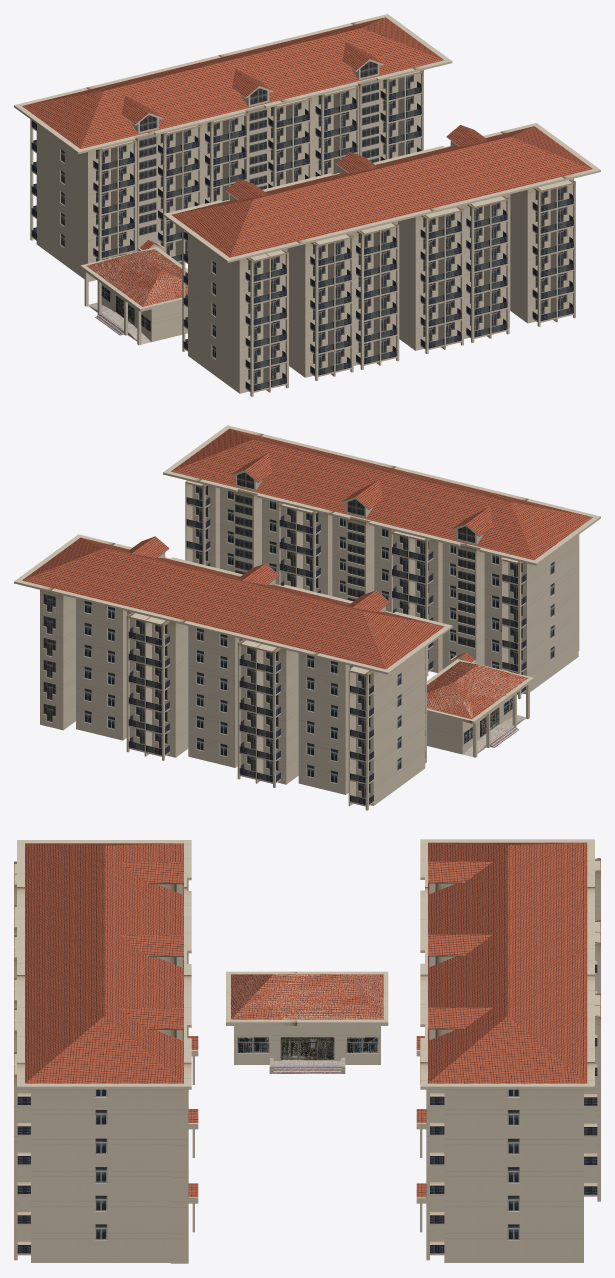
The model's file is 5SSL.dae.
3 views of the same model, one above another, from view 1: azimuth 30°, elevation 25°; view 2: azimuth 150°, elevation 25°; view 3: azimuth 270°, elevation 25° (orthographic). The views are drawn at different scales.
Parts seen in each view (by area): view 1: group_42, group_28 (×2), group_41 (×2), group_40, Group_14 (×8), group_12, group_30, group_9, group_13, group_19, group_32, group_8 (+15 smaller); view 2: group_40, group_41 (×2), group_42, group_28 (×2), group_12, group_30, group_13, group_21, group_22, group_29, group_25, Group_14 (+7 smaller); view 3: group_41 (×2), group_28 (×2), group_7, group_24, group_12, group_30 (×2), group_31, group_13, Group_14 (×3), group_0, group_6, group_20 (+7 smaller).
Part boxes in pixels (<box>): group_42: <box>188,178,573,393</box>; group_28 (×2): <box>163,123,600,262</box>; group_41 (×2): <box>14,14,452,154</box>; group_40: <box>36,73,420,281</box>; Group_14 (×8): <box>250,189,540,396</box>; group_12: <box>86,249,187,306</box>; group_30: <box>101,284,187,341</box>; group_9: <box>373,226,381,365</box>; group_13: <box>80,247,187,311</box>; group_19: <box>484,200,491,338</box>; group_32: <box>263,253,270,392</box>; group_8: <box>328,238,335,376</box>; group_40: <box>40,590,425,805</box>; group_41 (×2): <box>14,534,452,674</box>; group_42: <box>192,485,578,694</box>; group_28 (×2): <box>163,425,600,565</box>; group_12: <box>427,661,527,719</box>; group_30: <box>427,693,516,754</box>; group_13: <box>427,659,534,723</box>; group_21: <box>255,644,263,783</box>; group_22: <box>144,616,151,756</box>; group_29: <box>348,666,355,806</box>; group_25: <box>500,557,508,671</box>; Group_14: <box>365,673,368,810</box>; group_41 (×2): <box>420,839,594,1089</box>; group_28 (×2): <box>17,840,191,1089</box>; group_7: <box>444,1089,583,1262</box>; group_24: <box>31,1089,170,1262</box>; group_12: <box>231,974,383,1019</box>; group_30 (×2): <box>234,1026,380,1073</box>; group_31: <box>170,1089,188,1263</box>; group_13: <box>226,971,388,1025</box>; Group_14 (×3): <box>14,1016,600,1260</box>; group_0: <box>280,1037,334,1060</box>; group_6: <box>430,1089,444,1241</box>; group_20: <box>14,1063,30,1241</box>.
Bounding box in the file's own units: 2400 × 2329 × 976.
Materials: 13 (12 with a texture image).
